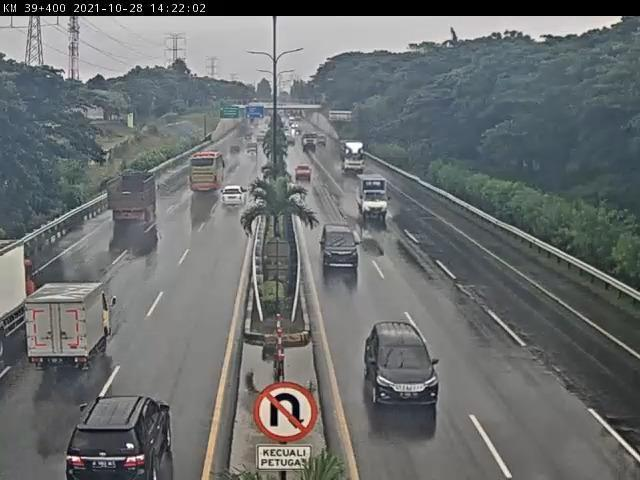bus: (191, 155, 224, 195)
car: (64, 398, 174, 480), (363, 324, 439, 408), (321, 226, 362, 273), (220, 187, 248, 212), (294, 164, 314, 182)
truck: (25, 284, 113, 371), (107, 173, 160, 226), (356, 173, 392, 221), (340, 143, 367, 172)
